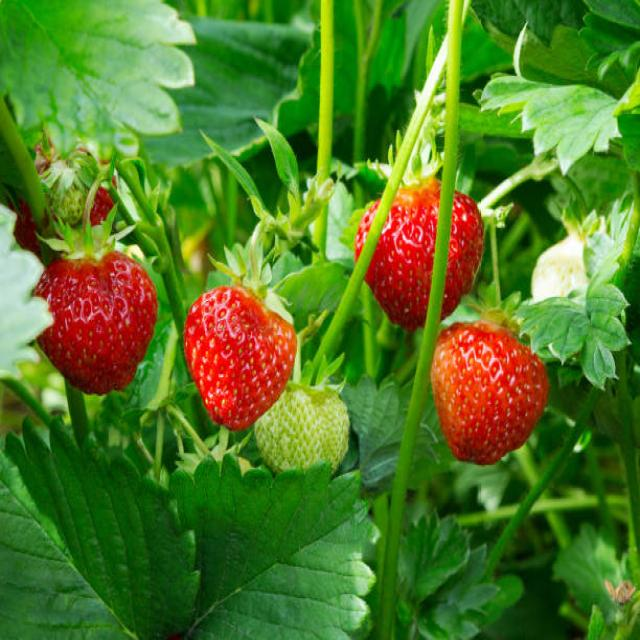Healthy Fruit: (354, 181, 483, 331), (30, 254, 159, 394), (430, 321, 546, 465), (183, 289, 296, 429)
